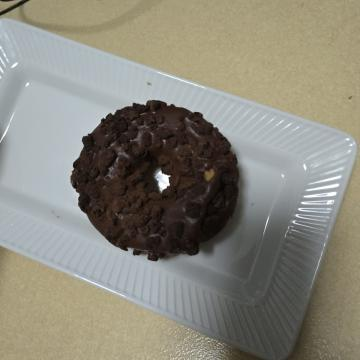doughnut: (92, 114, 273, 306)
